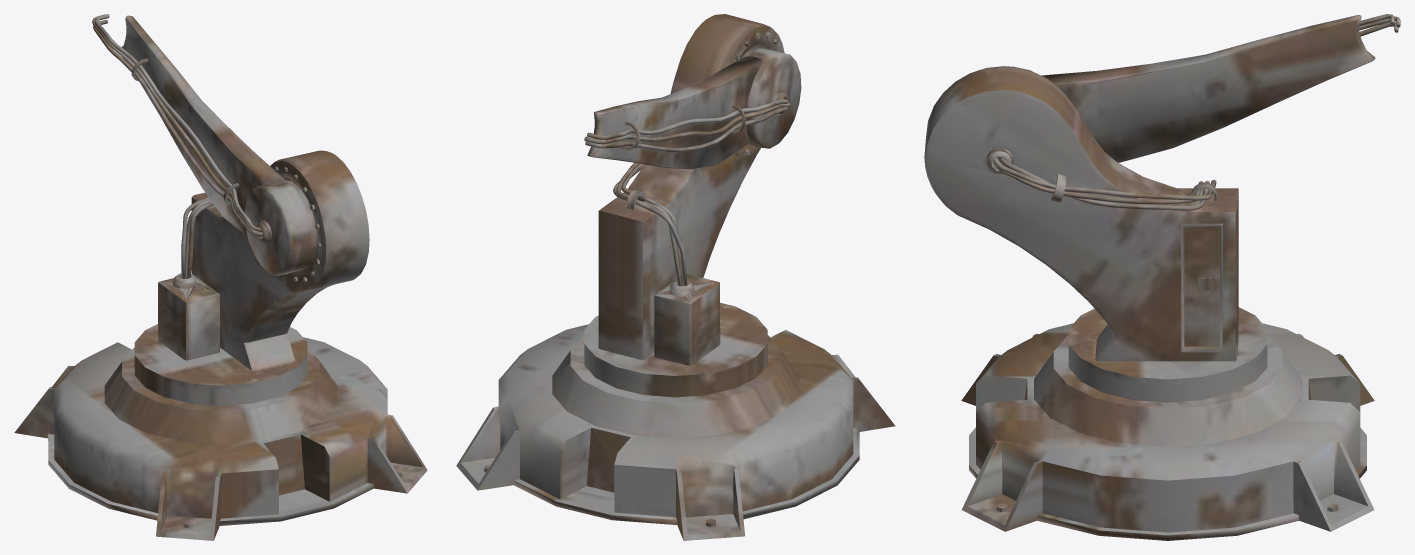
The model's file is robot-arm.glb.
3 views of the same model, side by side, from view 1: azimuth 30°, elevation 25°; view 2: azimuth 150°, elevation 25°; view 3: azimuth 270°, elevation 25° (orthographic). The views are drawn at different scales.
Parts seen in each view (by area): view 1: low; view 2: low; view 3: low.
Boxes of the visible parts, x1,y1,x2,y2 form: low: (14, 14, 427, 540); low: (456, 14, 895, 540); low: (924, 14, 1400, 540).
Size of the model in its own units: 1.27 by 1.5 by 1.49.
Materials: 1 (1 with a texture image).
